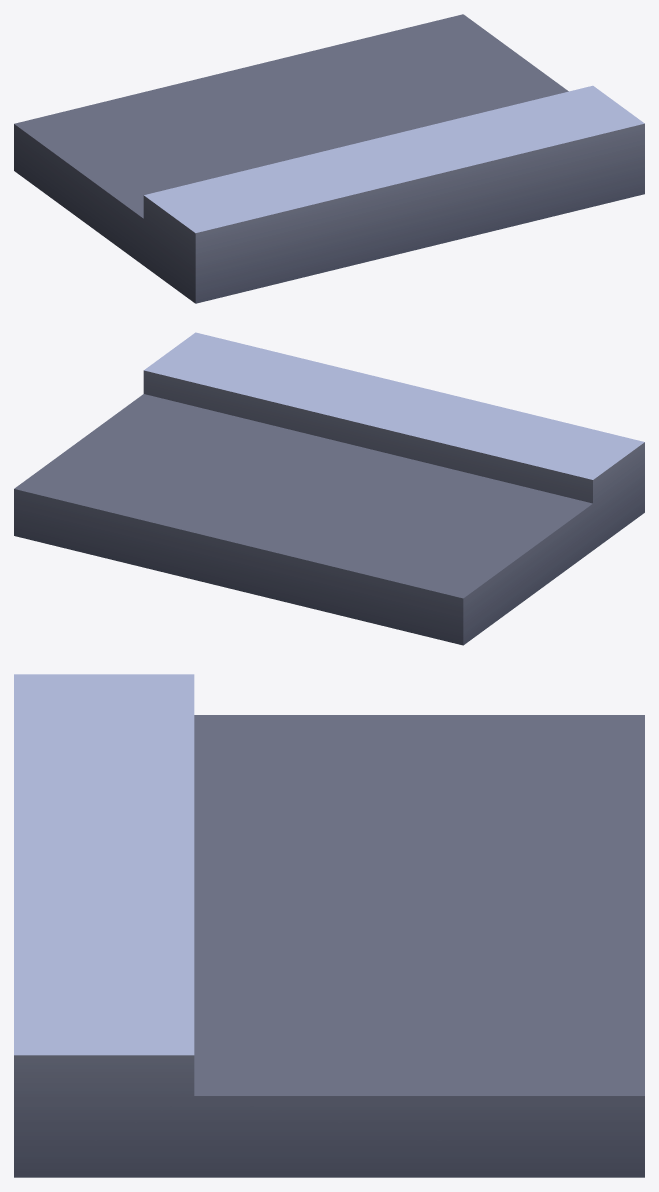
Rendered from balcony-floor-center.glb.
3 renders of one model, top to bottom at view 1: azimuth 30°, elevation 25°; view 2: azimuth 150°, elevation 25°; view 3: azimuth 270°, elevation 25°, orthographic. The views are drawn at different scales.
Visible parts, largest first — view 1: balcony-floor-center; view 2: balcony-floor-center; view 3: balcony-floor-center.
Boxes of the visible parts, x1=… form: balcony-floor-center: x1=14, y1=14, x2=644, y2=303; balcony-floor-center: x1=14, y1=332, x2=644, y2=645; balcony-floor-center: x1=14, y1=674, x2=644, y2=1177.
Size of the model in its own units: 1 by 0.15 by 0.7.
1 material, 1 textured.
